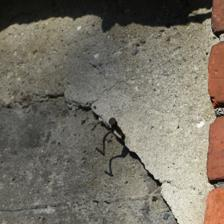Crack: (5, 44, 174, 175)
